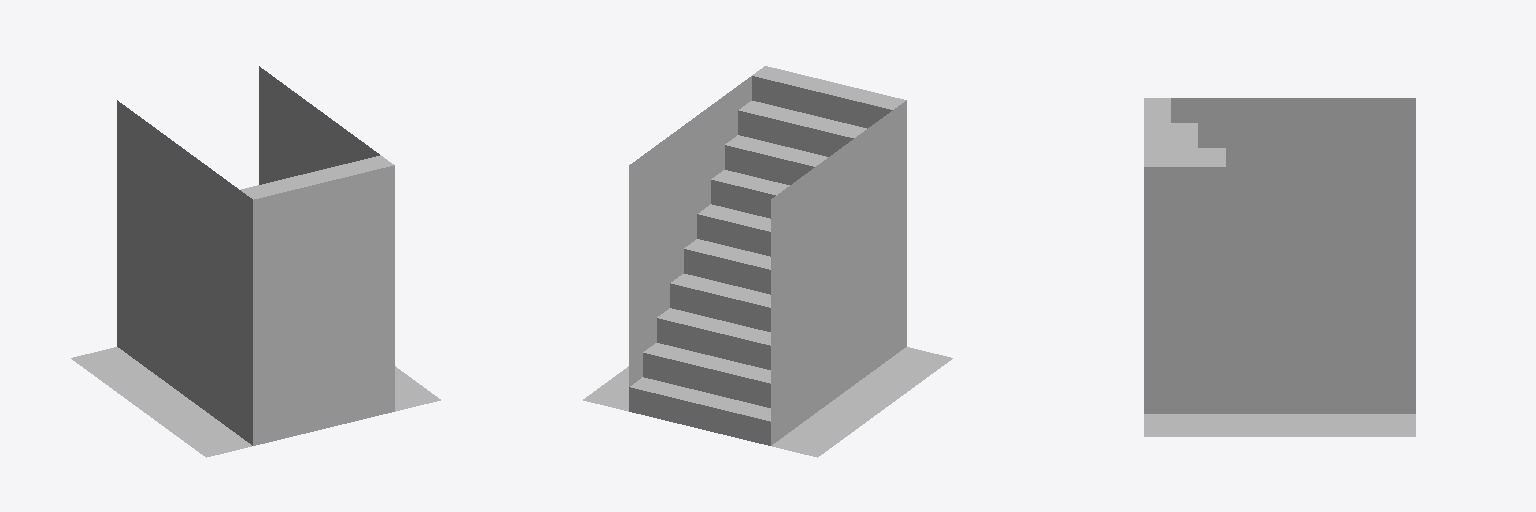
Rendered from upstairs.obj.
3 renders of one model, left to right at view 1: azimuth 30°, elevation 25°; view 2: azimuth 150°, elevation 25°; view 3: azimuth 270°, elevation 25°, orthographic.
Parts seen in each view (by area): view 1: Cube; view 2: Cube; view 3: Cube.
Boxes of the visible parts, x1,y1,x2,y2 form: Cube: [71, 66, 440, 457]; Cube: [583, 66, 952, 457]; Cube: [1144, 98, 1415, 436].
Bounding box in the file's own units: 1 × 1 × 1.